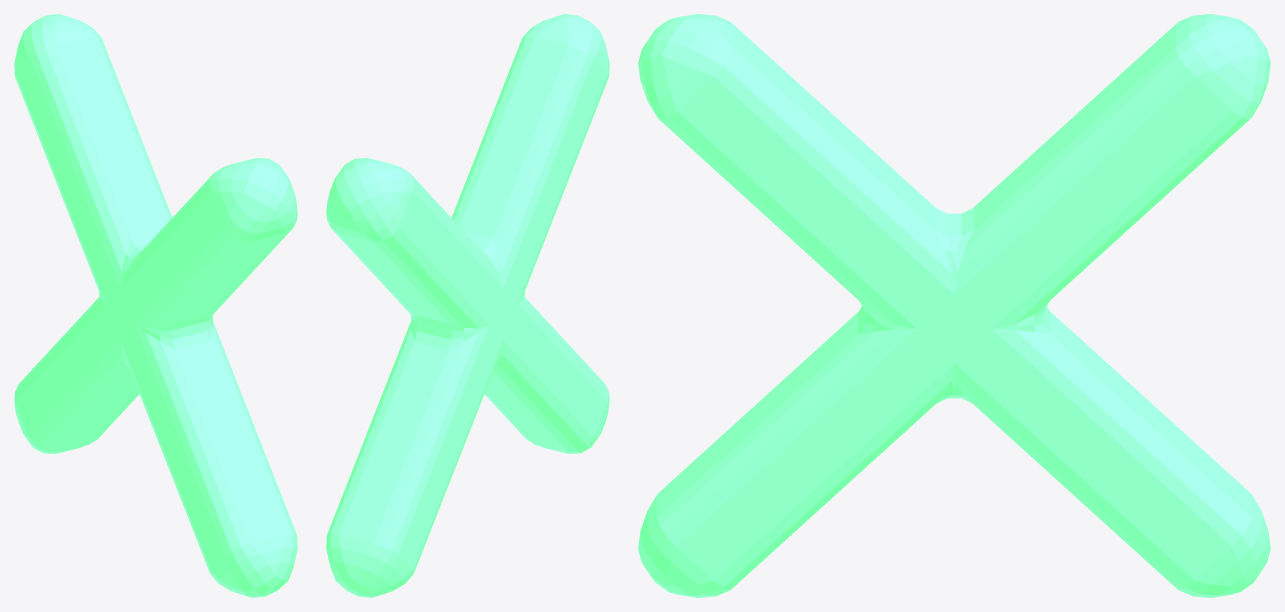
The model's file is MULTIPLICATION_SIGN.fbx.
3 renders of one model, left to right at view 1: azimuth 30°, elevation 25°; view 2: azimuth 150°, elevation 25°; view 3: azimuth 270°, elevation 25°, orthographic. The views are drawn at different scales.
Visible parts, largest first — view 1: multiplication_sign; view 2: multiplication_sign; view 3: multiplication_sign.
Part boxes in pixels (x1=…): multiplication_sign: x1=14, y1=14, x2=297, y2=597; multiplication_sign: x1=326, y1=14, x2=609, y2=597; multiplication_sign: x1=638, y1=14, x2=1270, y2=597.
Size of the model in its own units: 19.42 by 113 by 113.
